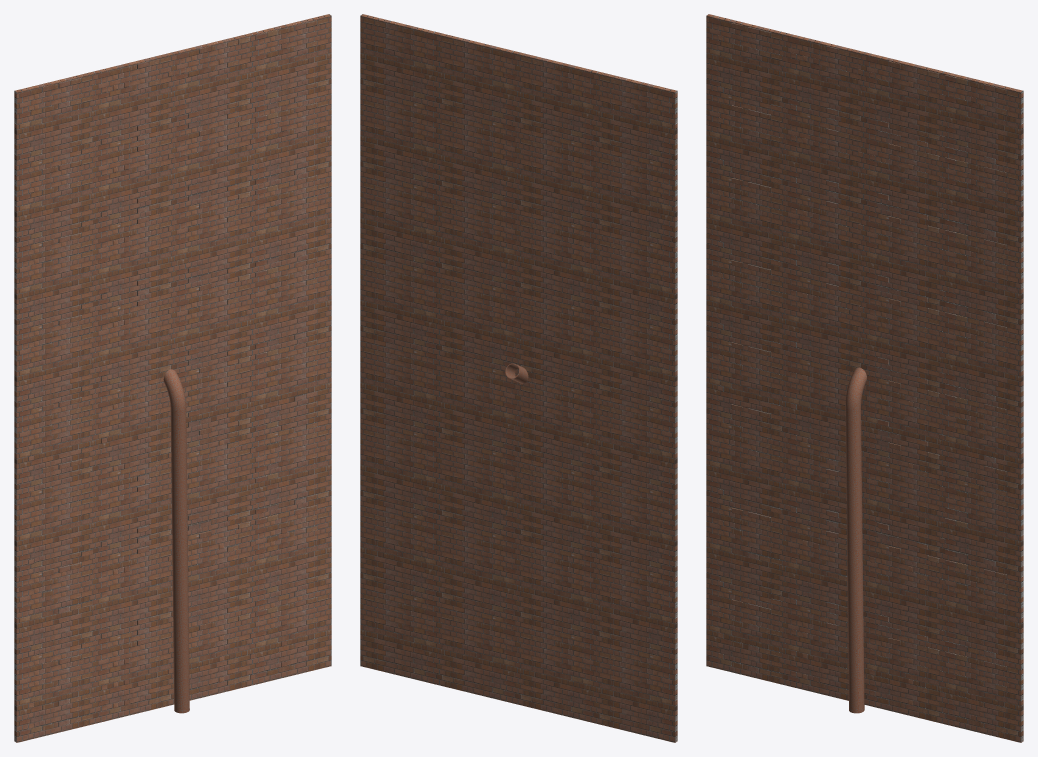
Rendered from Tutorial_Model_Structure_BS2Wall_3.fbx.
The picture shows the model from 3 angles, left to right: view 1: azimuth 30°, elevation 25°; view 2: azimuth 150°, elevation 25°; view 3: azimuth 330°, elevation 25°; orthographic projection.
Parts seen in each view (by area): view 1: Wall_6, Wall_6_Pipe_1; view 2: Wall_6; view 3: Wall_6, Wall_6_Pipe_1.
Part boxes in pixels (x1,y1,x2,y2): Wall_6: (14, 14, 331, 742); Wall_6_Pipe_1: (163, 369, 189, 713); Wall_6: (360, 14, 677, 742); Wall_6: (706, 14, 1023, 742); Wall_6_Pipe_1: (845, 367, 866, 713).
Size of the model in its own units: 315 by 622 by 43.59.
2 materials, 2 textured.
